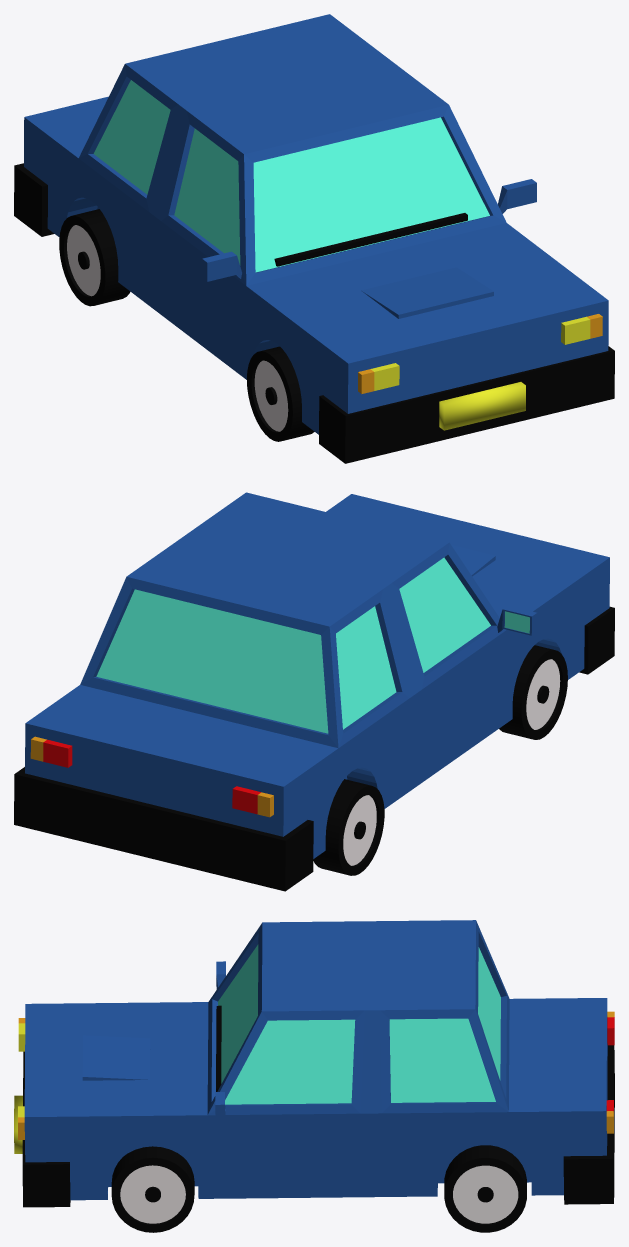
File: Car.glb
3 renders of one model, top to bottom at view 1: azimuth 30°, elevation 25°; view 2: azimuth 150°, elevation 25°; view 3: azimuth 270°, elevation 25°, orthographic. The views are drawn at different scales.
Parts seen in each view (by area): view 1: Skin, Pickup, BackWheel, FrontWheel_R; view 2: Skin, Pickup, BackWheel, FrontWheel_R; view 3: Skin, Pickup, BackWheel, FrontWheel_L.
Boxes of the visible parts, x1,y1,x2,y2 form: Skin: (24,14,608,434); Pickup: (14,80,614,463); BackWheel: (59,209,130,306); FrontWheel_R: (247,346,314,441); Skin: (25,492,609,858); Pickup: (14,557,614,891); BackWheel: (313,779,384,875); FrontWheel_R: (499,645,567,739); Skin: (24,920,607,1200); Pickup: (14,944,614,1207); BackWheel: (444,1145,526,1232); FrontWheel_L: (111,1146,194,1232).
Size of the model in its own units: 2.32 by 1.58 by 4.11.
